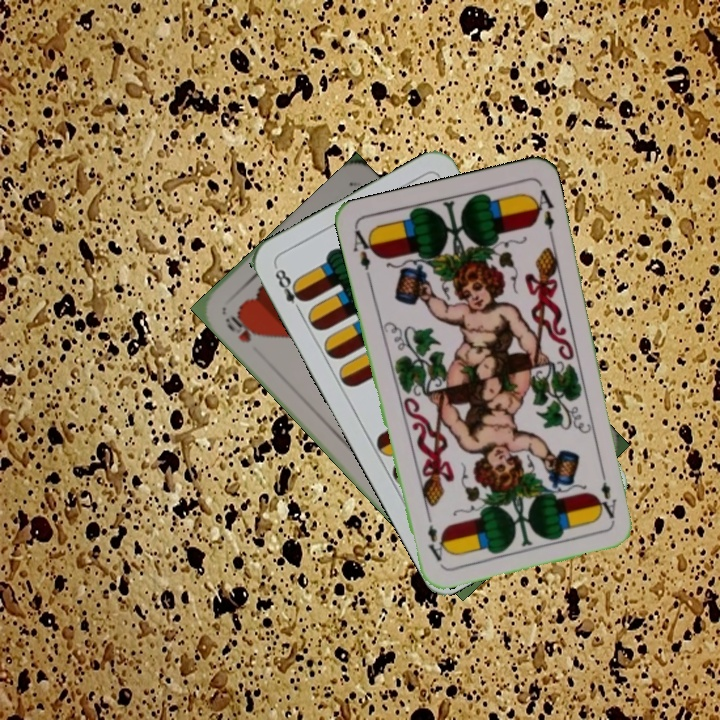E8: (270, 263, 309, 317)
EA: (348, 225, 378, 283), (596, 464, 620, 521)
HO: (220, 308, 263, 346)
